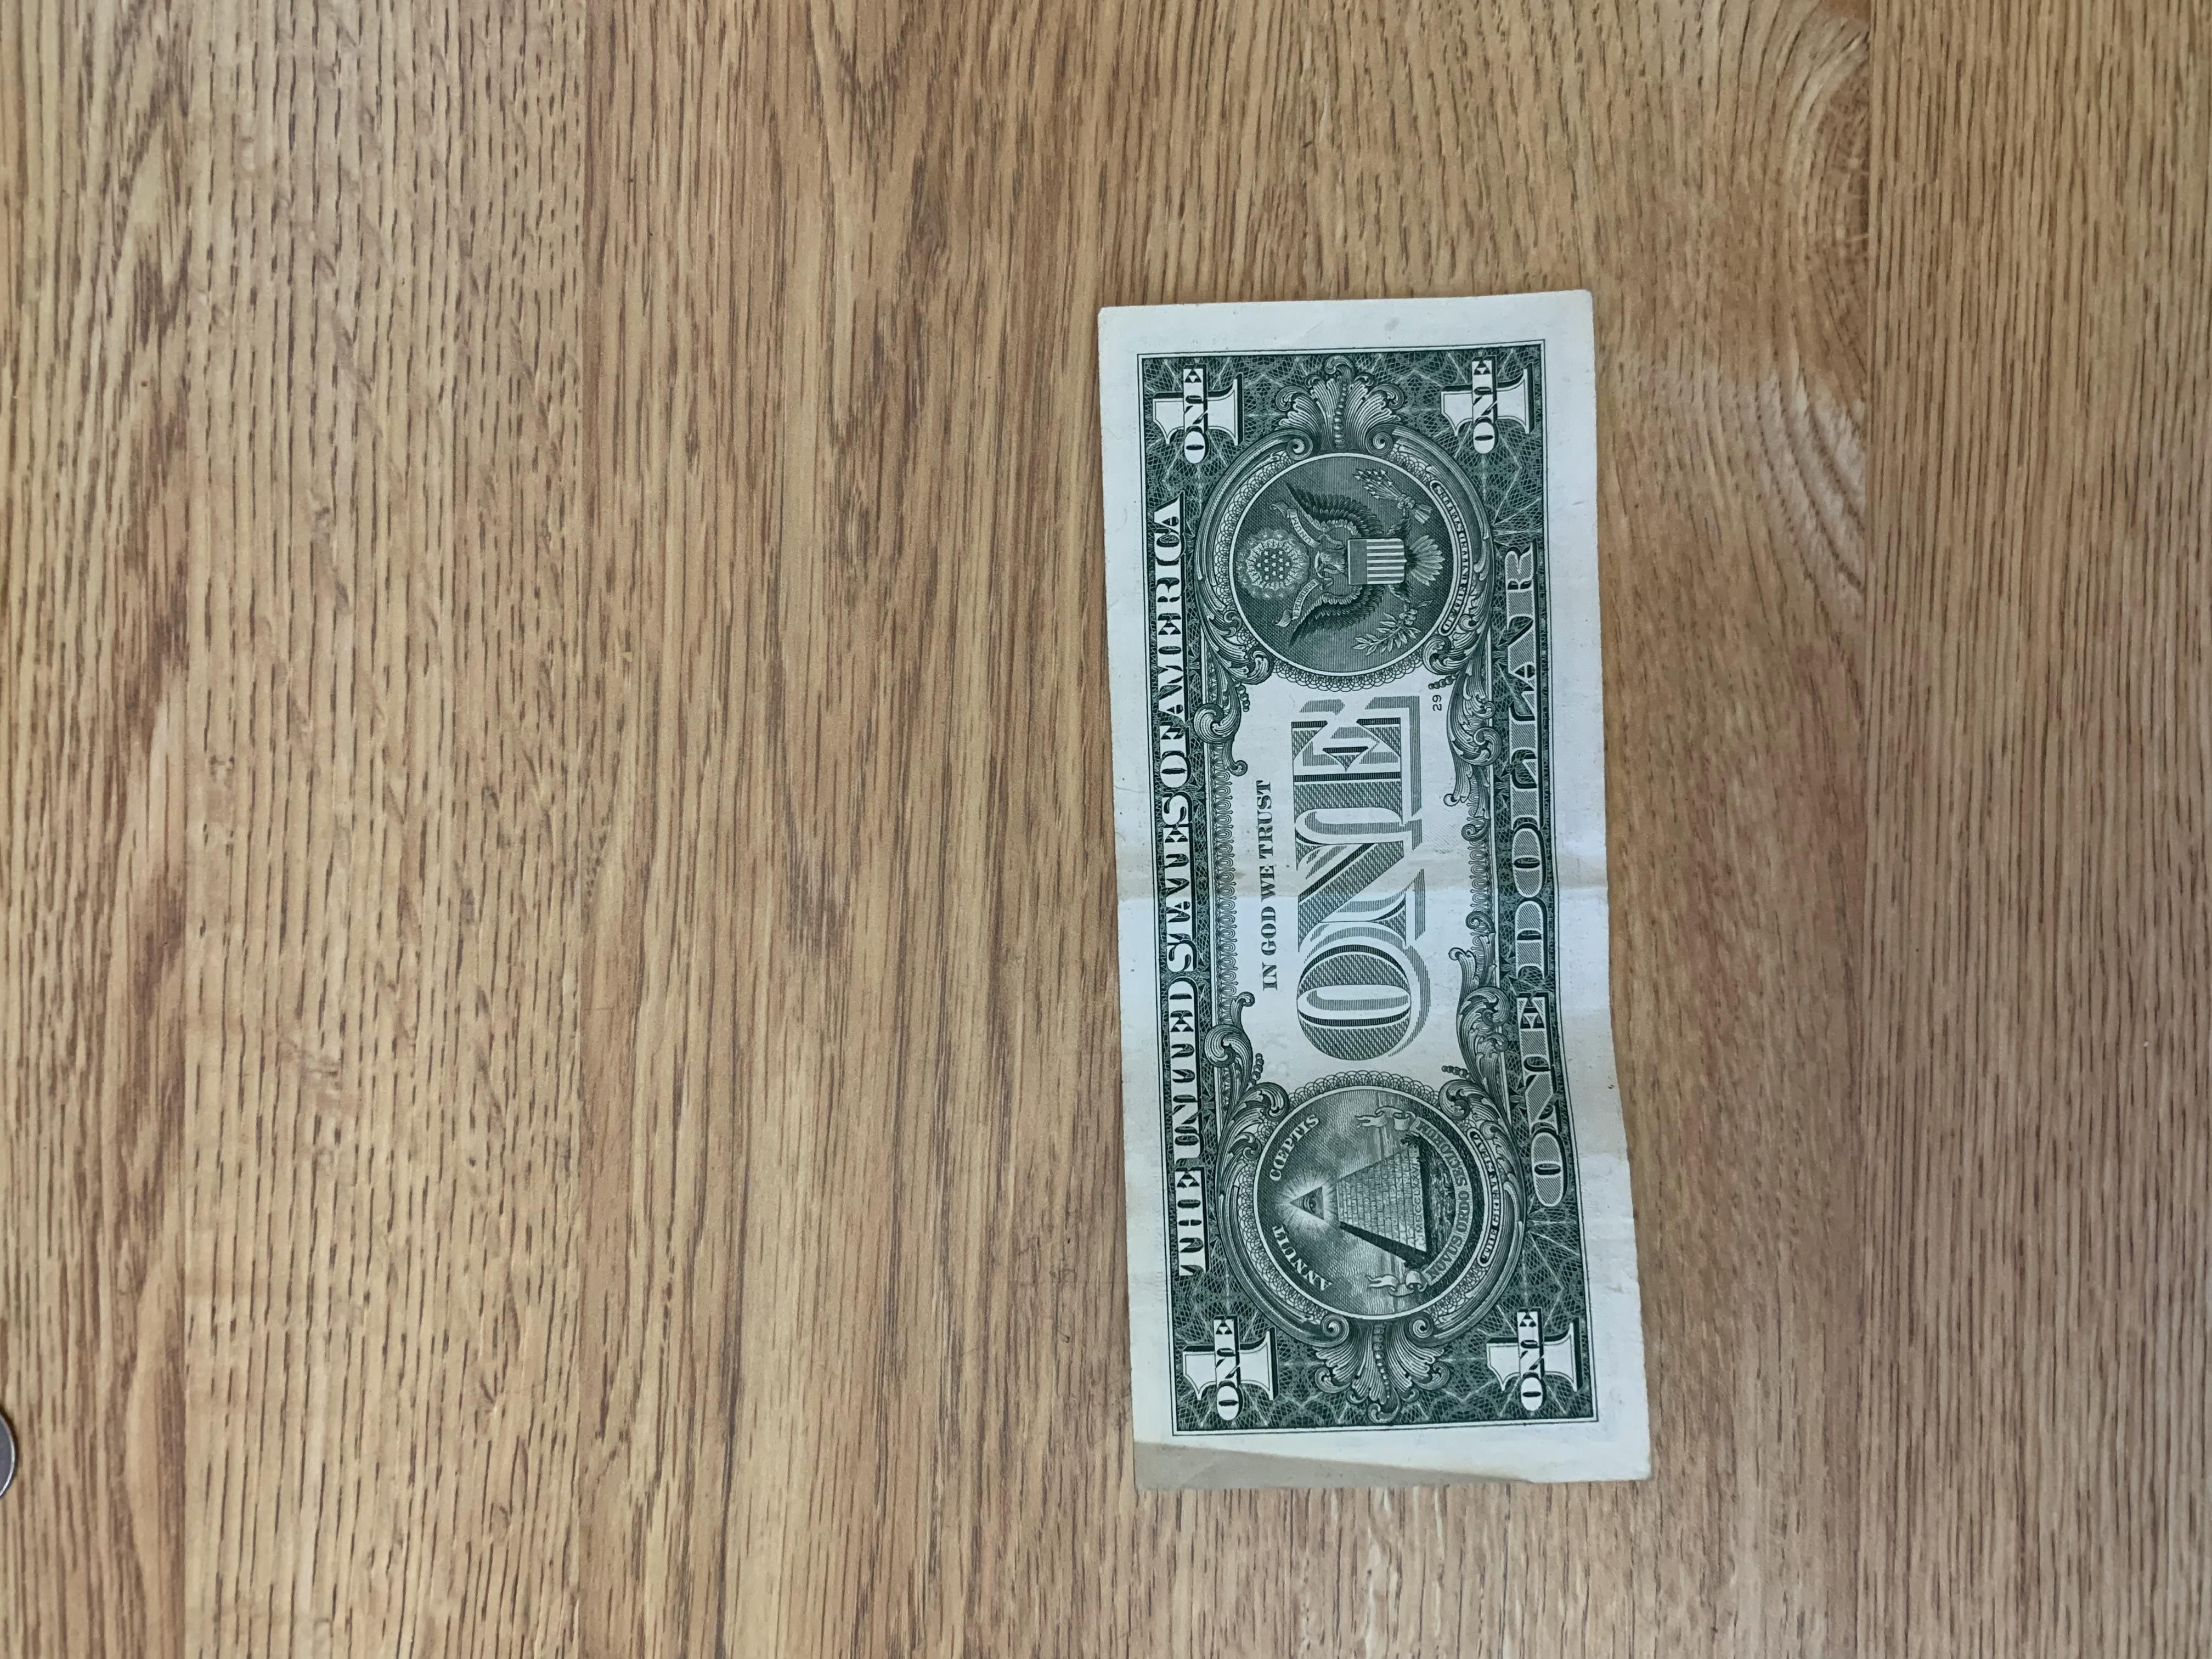OneBill: (1094, 275, 1676, 1495)
